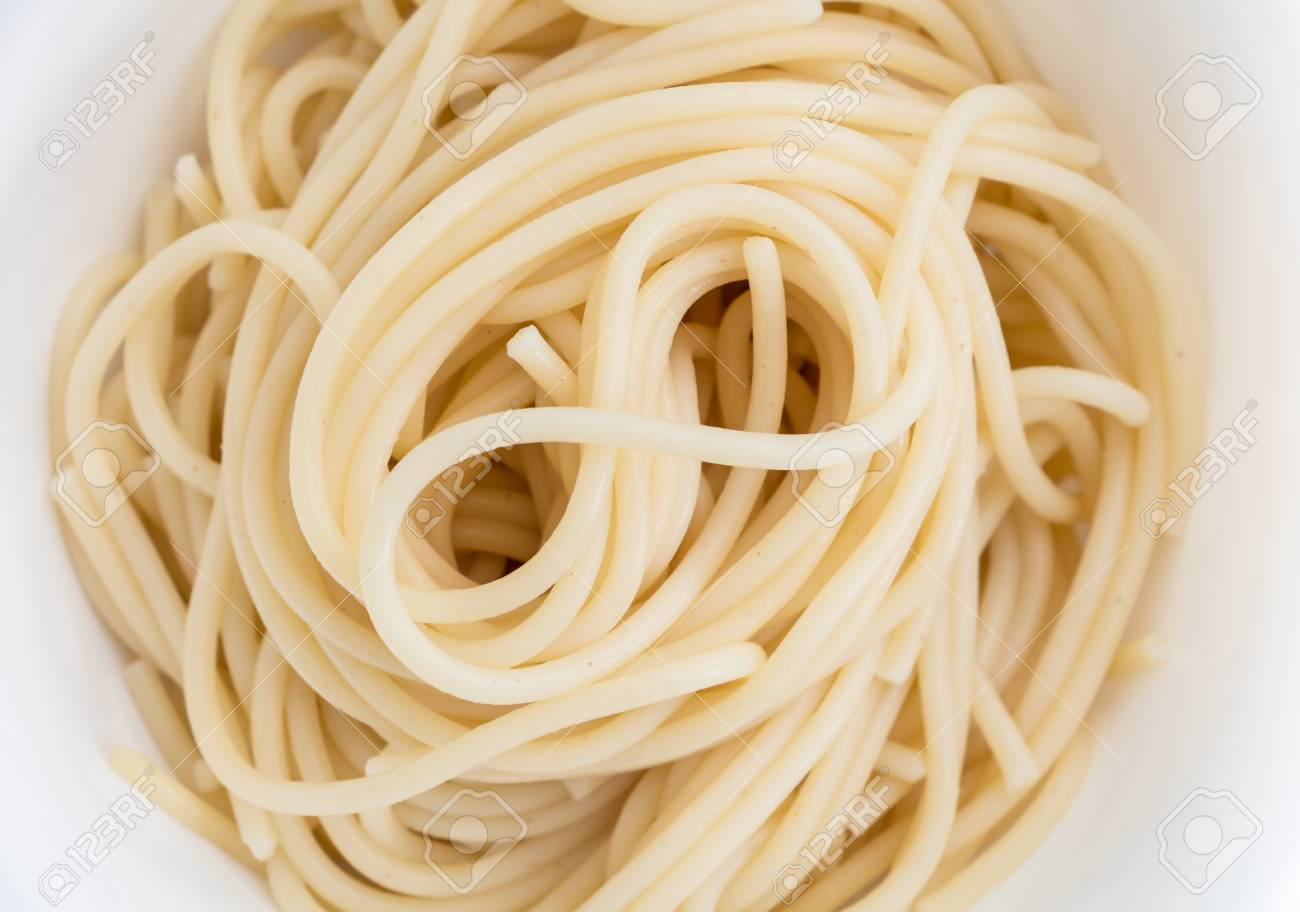plain spaghetti: (80, 10, 1175, 911)
